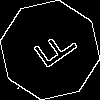F: (25, 25, 80, 77)
